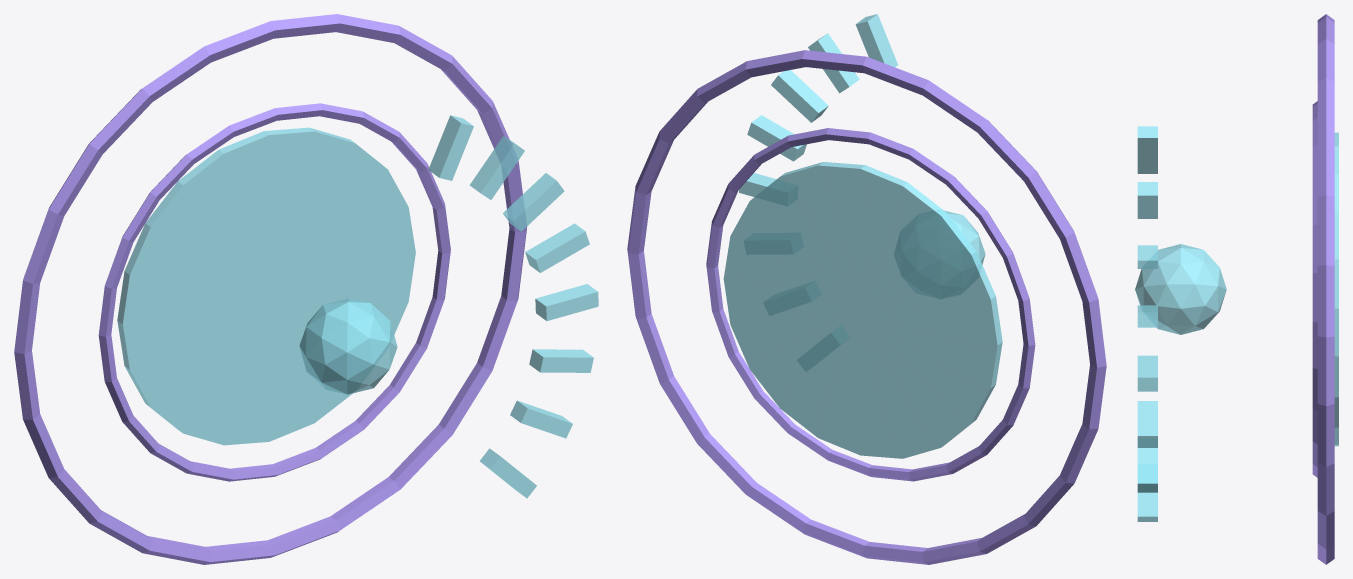
Rendered from 01_class_special_attack_vfx.glb.
The picture shows the model from 3 angles, left to right: view 1: azimuth 30°, elevation 25°; view 2: azimuth 150°, elevation 25°; view 3: azimuth 270°, elevation 25°; orthographic projection. The views are drawn at different scales.
Parts seen in each view (by area): view 1: ability_cast_disc, shockwave, ability_outer_ring, class_energy_core, attack_flow_arc_seg_7, attack_flow_arc_seg_5, attack_flow_arc_seg_6, attack_flow_arc_seg_4, attack_flow_arc_seg_3, attack_flow_arc_seg_2, attack_flow_arc_seg_1, attack_flow_arc_seg_0; view 2: ability_cast_disc, shockwave, ability_outer_ring, attack_flow_arc_seg_5, attack_flow_arc_seg_7, attack_flow_arc_seg_4, attack_flow_arc_seg_6, class_energy_core; view 3: shockwave, class_energy_core, ability_outer_ring, ability_cast_disc, attack_flow_arc_seg_7, attack_flow_arc_seg_2, attack_flow_arc_seg_1, attack_flow_arc_seg_6, attack_flow_arc_seg_3, attack_flow_arc_seg_0, attack_flow_arc_seg_5, attack_flow_arc_seg_4.
Boxes of the visible parts, x1=… form: ability_cast_disc: x1=117, y1=127, x2=415, y2=445; shockwave: x1=14, y1=14, x2=527, y2=564; ability_outer_ring: x1=98, y1=103, x2=450, y2=481; class_energy_core: x1=299, y1=298, x2=397, y2=394; attack_flow_arc_seg_7: x1=428, y1=115, x2=473, y2=180; attack_flow_arc_seg_5: x1=503, y1=173, x2=564, y2=231; attack_flow_arc_seg_6: x1=469, y1=136, x2=524, y2=199; attack_flow_arc_seg_4: x1=525, y1=223, x2=589, y2=272; attack_flow_arc_seg_3: x1=535, y1=284, x2=598, y2=320; attack_flow_arc_seg_2: x1=529, y1=349, x2=593, y2=372; attack_flow_arc_seg_1: x1=510, y1=400, x2=572, y2=438; attack_flow_arc_seg_0: x1=480, y1=448, x2=536, y2=498; ability_cast_disc: x1=723, y1=162, x2=1002, y2=458; shockwave: x1=627, y1=50, x2=1106, y2=564; ability_outer_ring: x1=706, y1=128, x2=1035, y2=481; attack_flow_arc_seg_5: x1=771, y1=70, x2=828, y2=122; attack_flow_arc_seg_7: x1=855, y1=14, x2=897, y2=67; attack_flow_arc_seg_4: x1=747, y1=115, x2=806, y2=161; attack_flow_arc_seg_6: x1=808, y1=33, x2=859, y2=93; class_energy_core: x1=944, y1=210, x2=985, y2=264; shockwave: x1=1317, y1=14, x2=1334, y2=564; class_energy_core: x1=1135, y1=244, x2=1226, y2=334; ability_outer_ring: x1=1312, y1=101, x2=1317, y2=477; ability_cast_disc: x1=1334, y1=132, x2=1338, y2=446; attack_flow_arc_seg_7: x1=1137, y1=126, x2=1157, y2=173; attack_flow_arc_seg_2: x1=1137, y1=401, x2=1157, y2=447; attack_flow_arc_seg_1: x1=1137, y1=448, x2=1157, y2=492; attack_flow_arc_seg_6: x1=1137, y1=182, x2=1157, y2=218; attack_flow_arc_seg_3: x1=1137, y1=355, x2=1157, y2=391; attack_flow_arc_seg_0: x1=1137, y1=492, x2=1157, y2=521; attack_flow_arc_seg_5: x1=1137, y1=245, x2=1157, y2=268; attack_flow_arc_seg_4: x1=1137, y1=305, x2=1157, y2=327.
Bounding box in the file's own units: 2.17 × 2.17 × 0.8.
